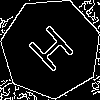H: (26, 23, 83, 81)
